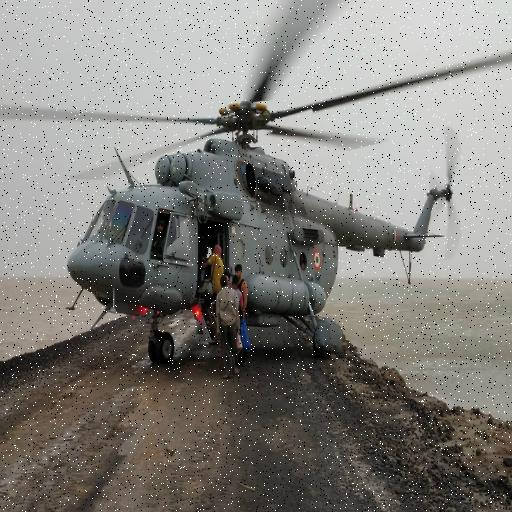helicopter: (21, 29, 486, 368)
